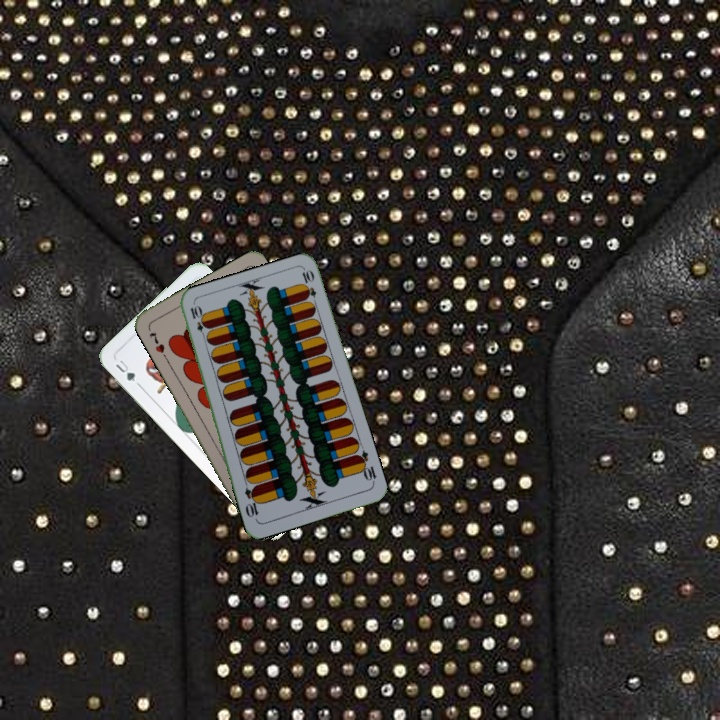E10: (352, 447, 379, 486), (186, 302, 209, 342)
GU: (111, 356, 143, 389)
H7: (145, 327, 167, 356)
